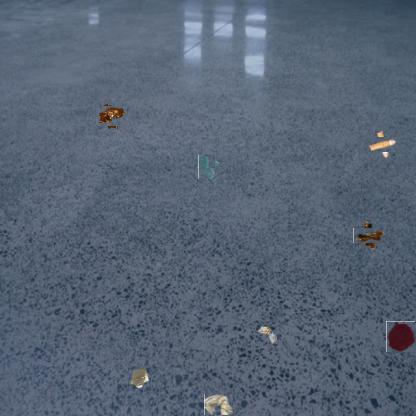dirty: (98, 104, 124, 130), (204, 394, 233, 416), (358, 223, 382, 248), (372, 133, 394, 156), (129, 366, 151, 388), (255, 324, 277, 346)
liquid: (386, 321, 415, 352), (197, 157, 217, 178)
